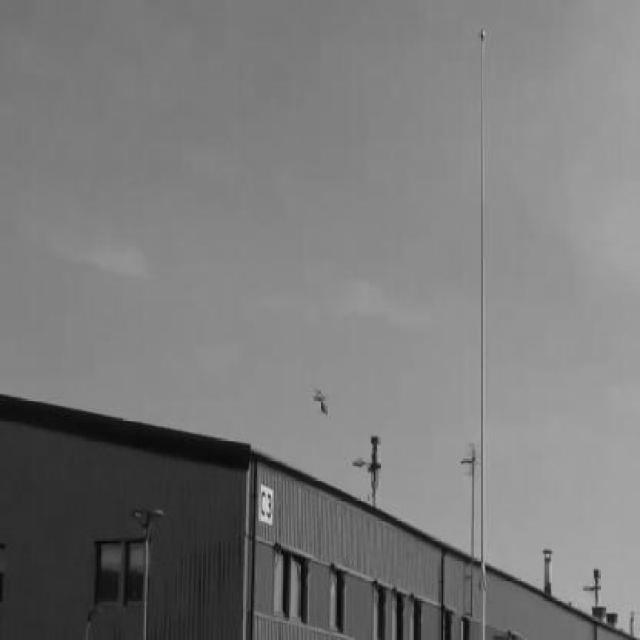helikopter: (307, 380, 336, 425)
